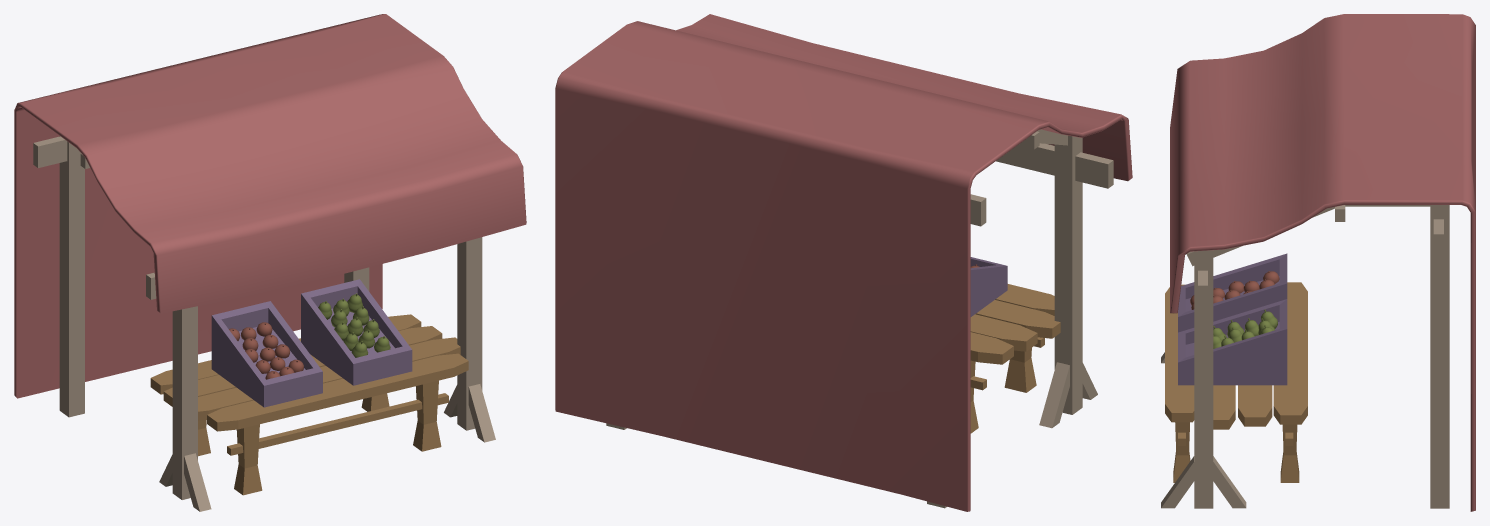
The model's file is StandComida 1.fbx.
3 views of the same model, side by side, from view 1: azimuth 30°, elevation 25°; view 2: azimuth 150°, elevation 25°; view 3: azimuth 270°, elevation 25° (orthographic). The views are drawn at different scales.
Parts seen in each view (by area): view 1: polySurface95, polySurface88, polySurface132, polySurface133, pasted__pasted__pasted__pasted__pasted__pasted__pasted__past (×2); view 2: polySurface95, polySurface88, polySurface132, polySurface133; view 3: polySurface95, polySurface88, polySurface132, polySurface133, pasted__pasted__pasted__pasted__pasted__pasted__pasted__past (×2).
Boxes of the visible parts, x1,y1,x2,y2 form: polySurface95: (14,14,526,398); polySurface88: (33,136,495,511); polySurface132: (150,314,468,495); polySurface133: (211,279,412,407); pasted__pasted__pasted__pasted__pasted__pasted__pasted__past (×2): (229,293,390,379); polySurface95: (555,14,1132,511); polySurface88: (606,129,1113,508); polySurface132: (970,284,1060,433); polySurface133: (970,257,1007,316); polySurface95: (1170,14,1475,511); polySurface88: (1161,205,1449,508); polySurface132: (1165,282,1307,482); polySurface133: (1178,253,1287,385); pasted__pasted__pasted__pasted__pasted__pasted__pasted__past (×2): (1190,271,1279,348).
Size of the model in its own units: 3.65 by 2.97 by 2.6.
